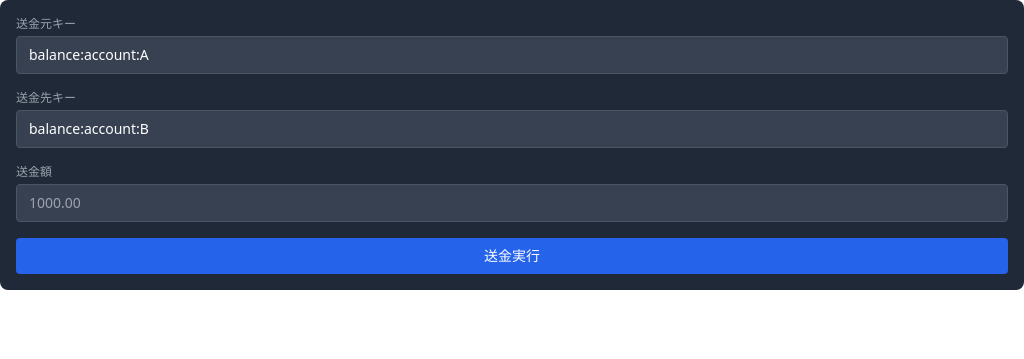
Test: TransferForm › 金額が空のときバリデーションエラーを表示する
Click the button "送金実行": coordinates (512, 256) x1=16 y1=238 x2=1008 y2=274
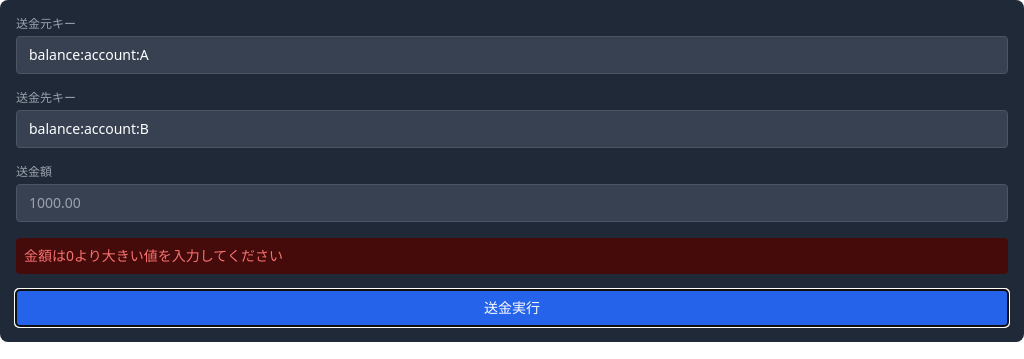
expect the text "金額は0より大きい値を入力してください" is shown: met, box x1=16 y1=238 x2=1008 y2=274
